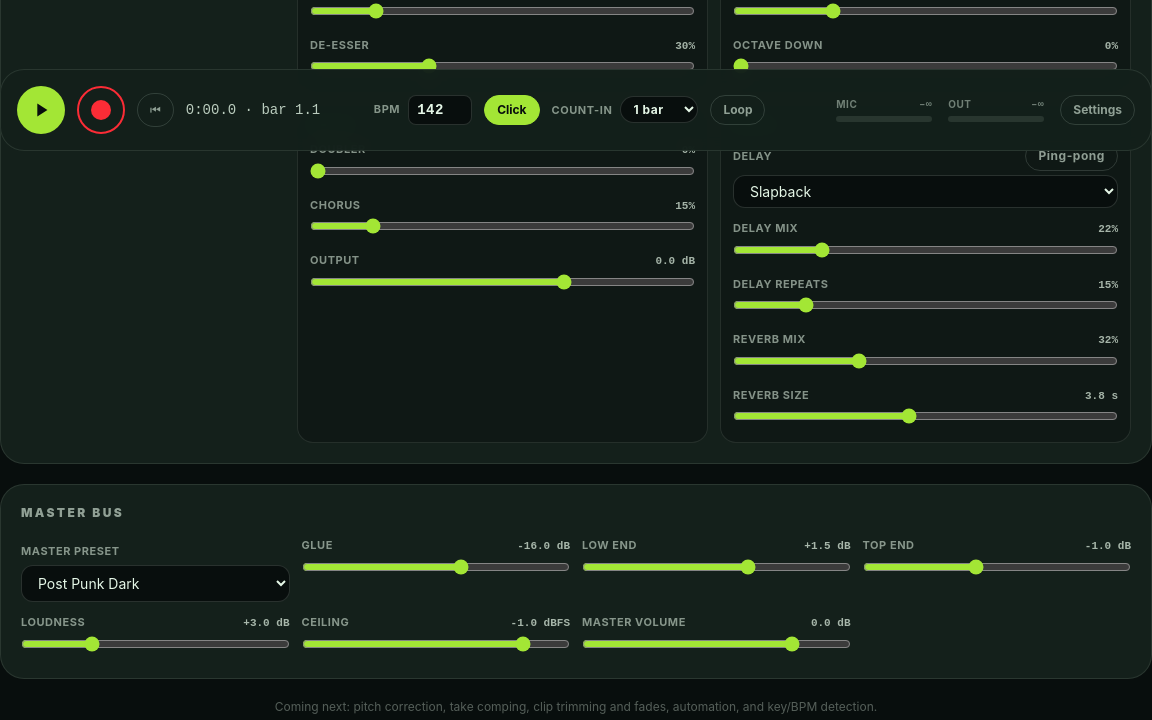
Test: Studio › marks edited chains as custom
(page scrolled)
Set the slider labelled "Reverb mix" to "0.8": point(1036, 360) [733,352,1118,368]
(page scrolled)
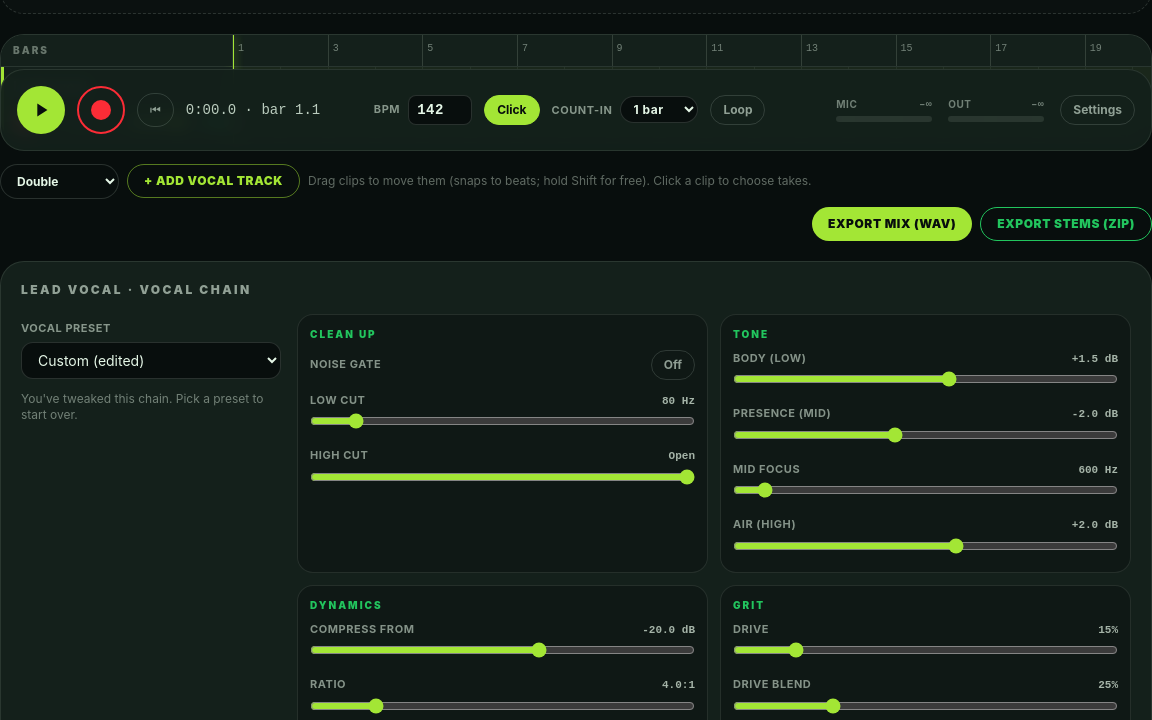
Result: the dropdown labelled "Vocal preset" shows "Custom (edited)" at [21,342,281,378]
